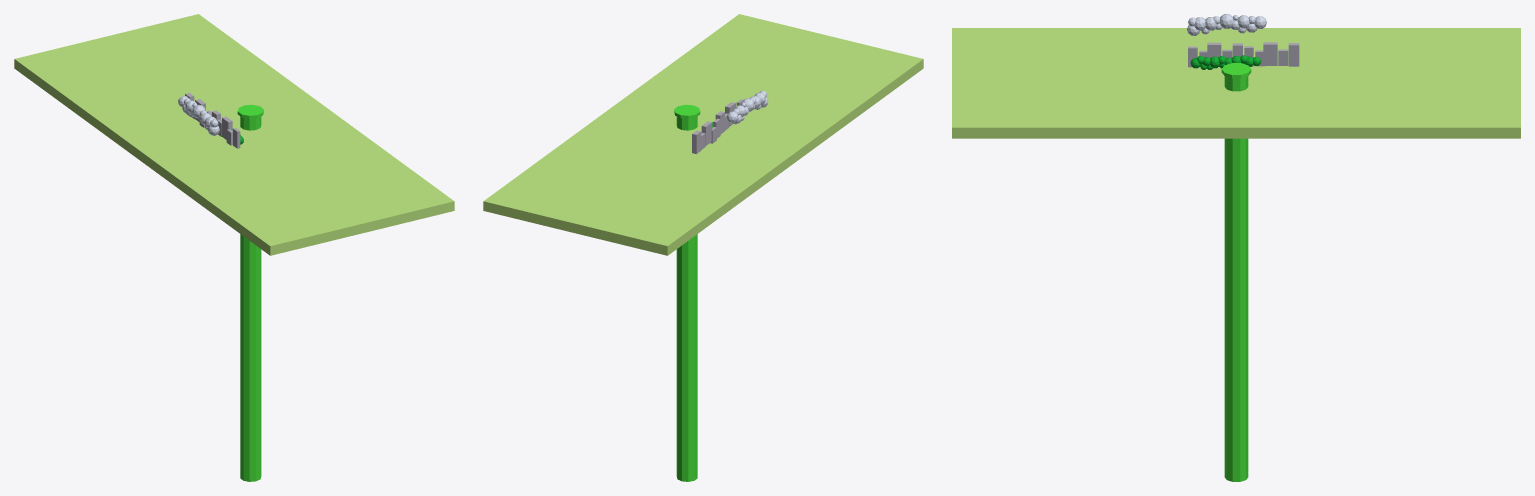
The model's file is Enviroment.fbx.
3 renders of one model, left to right at view 1: azimuth 30°, elevation 25°; view 2: azimuth 150°, elevation 25°; view 3: azimuth 270°, elevation 25°, orthographic. The views are drawn at different scales.
Parts seen in each view (by area): view 1: Ground, Pipe, Buildings, Clouds; view 2: Ground, Pipe, Buildings, Clouds; view 3: Ground, Pipe, Buildings, Clouds, Bush.
Boxes of the visible parts, <box> form: Ground: <box>14,14,454,255</box>; Pipe: <box>237,104,263,481</box>; Buildings: <box>185,92,240,148</box>; Clouds: <box>178,96,219,135</box>; Ground: <box>483,14,923,255</box>; Pipe: <box>674,104,700,481</box>; Buildings: <box>692,99,742,153</box>; Clouds: <box>726,90,768,123</box>; Ground: <box>952,28,1520,138</box>; Pipe: <box>1221,63,1251,481</box>; Buildings: <box>1188,42,1299,67</box>; Clouds: <box>1187,14,1266,35</box>; Bush: <box>1190,55,1261,69</box>.
Bounding box in the file's own units: 40 × 80.7 × 96.2.
